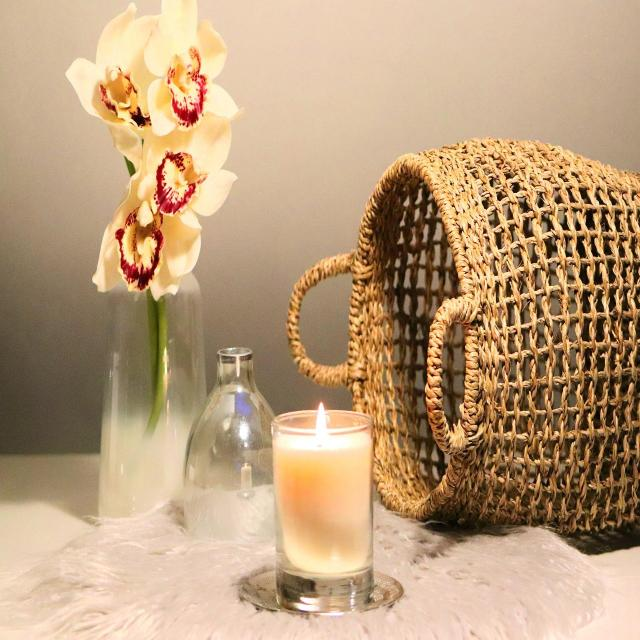Fire_Save: (270, 401, 376, 611)
